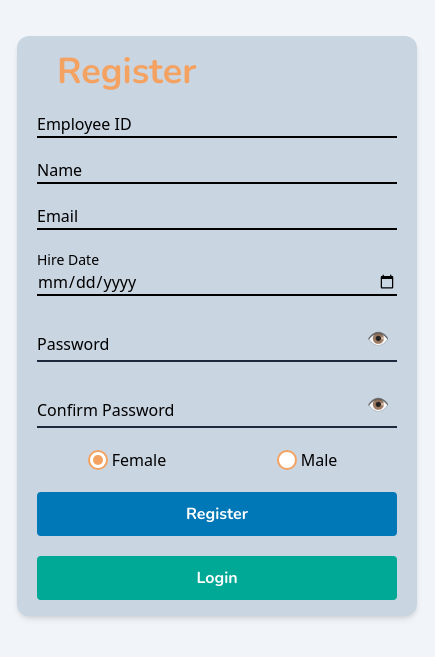
Register Page tests › should validate email format
Type "invalid-email" into the field labelled "Email". click: (217, 217)
box: [37,204,397,230]
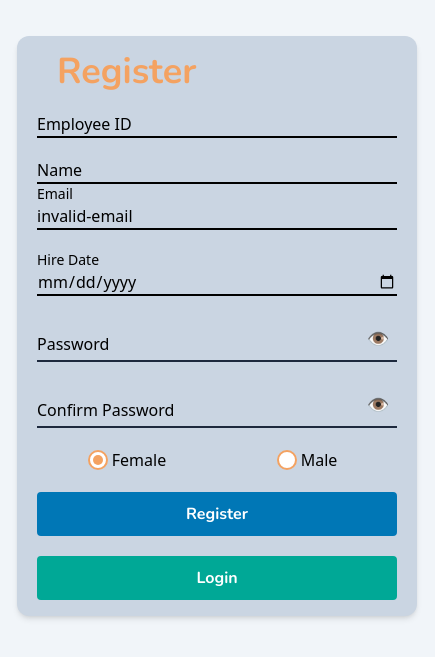
Check for the validation error
Click the button "Register". click: (217, 514)
box: [37,492,397,536]
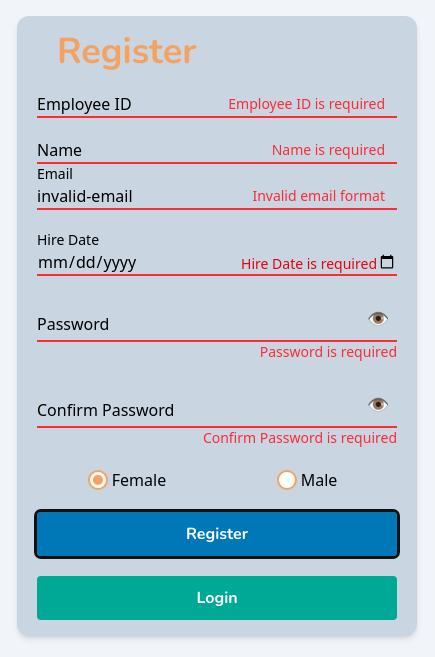
Result: the text "Invalid email format" is shown at [252,186,385,206]
